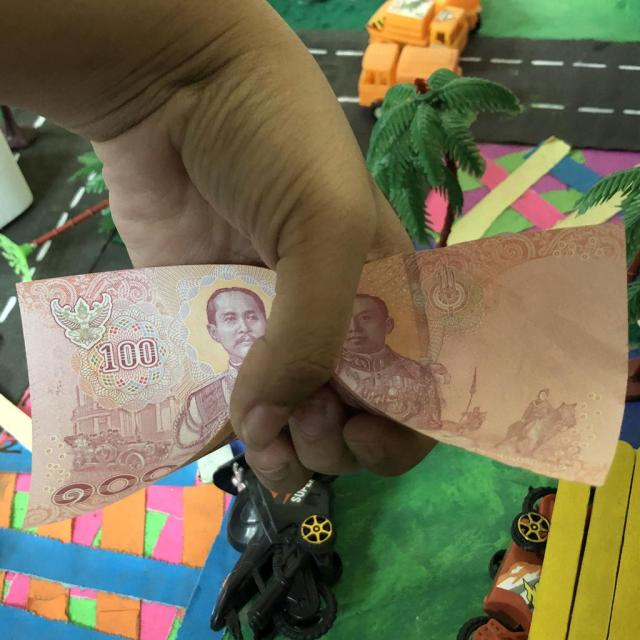THAI100: (331, 224, 627, 485), (17, 265, 275, 528)
